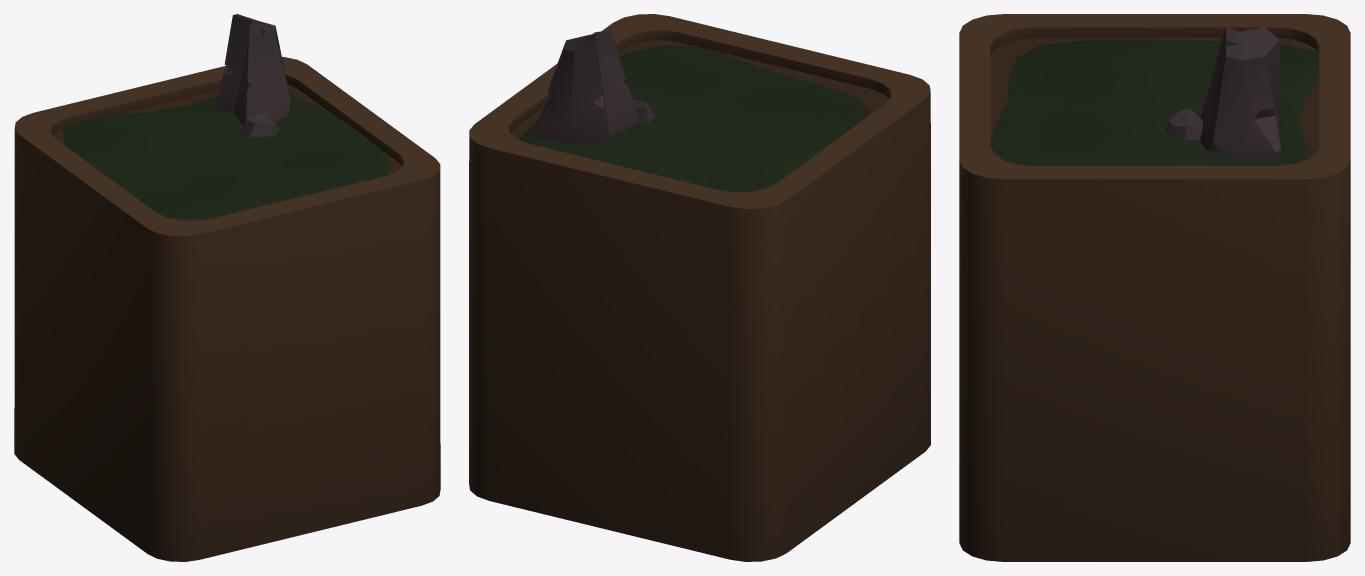
The model's file is Meadow 1.fbx.
The picture shows the model from 3 angles, left to right: view 1: azimuth 30°, elevation 25°; view 2: azimuth 150°, elevation 25°; view 3: azimuth 270°, elevation 25°; orthographic projection. The views are drawn at different scales.
Visible parts, largest first — view 1: Meadow Tile 1, Rock_2.001; view 2: Meadow Tile 1, Rock_2.001; view 3: Meadow Tile 1, Rock_2.001.
Boxes of the visible parts, left/top/right/bottom form: Meadow Tile 1: left=14, top=57, right=440, bottom=561; Rock_2.001: left=217, top=14, right=290, bottom=136; Meadow Tile 1: left=469, top=14, right=930, bottom=561; Rock_2.001: left=531, top=30, right=654, bottom=145; Meadow Tile 1: left=959, top=14, right=1350, bottom=561; Rock_2.001: left=1165, top=27, right=1283, bottom=164.
Size of the model in its own units: 2000 by 2721 by 2000.
